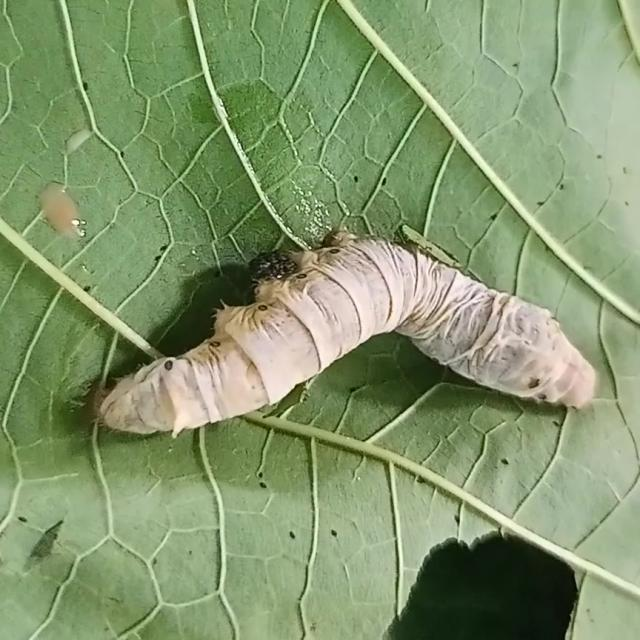Grasserie: (86, 186, 604, 466)
